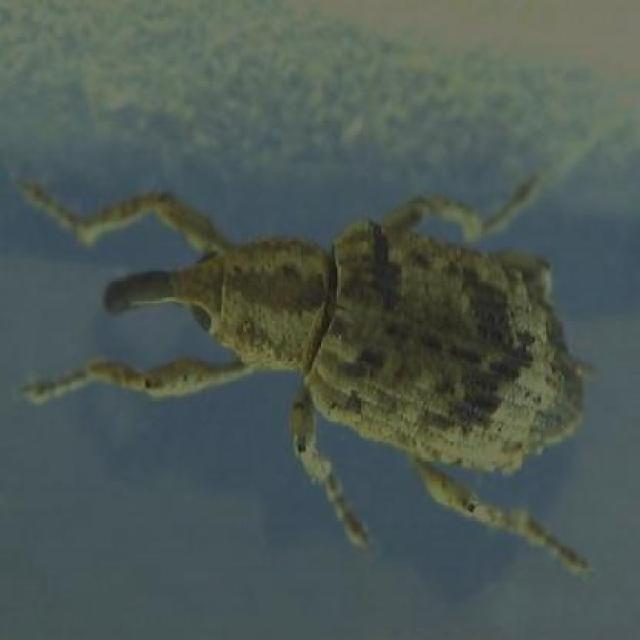rice-bug: (95, 206, 594, 485)
